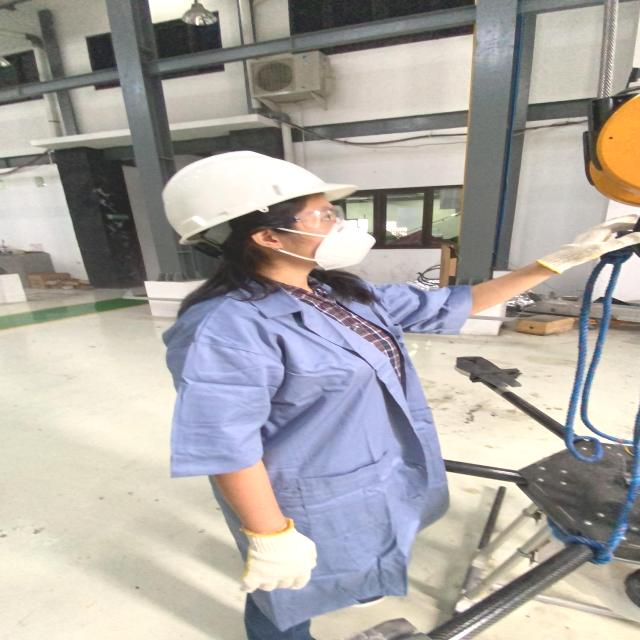face_mask: (289, 202, 379, 272)
glasses: (285, 201, 348, 229)
hand_glove: (218, 517, 323, 595), (526, 210, 640, 278)
head_helmet: (158, 146, 356, 231)
person: (129, 148, 625, 640)
